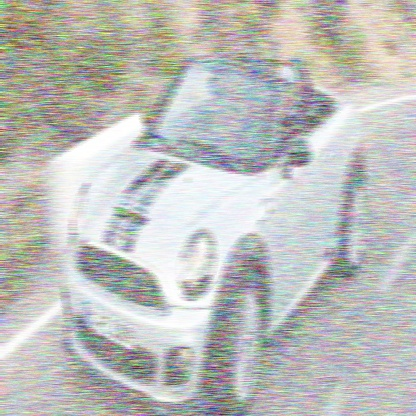Vehicle: (64, 41, 368, 414)
